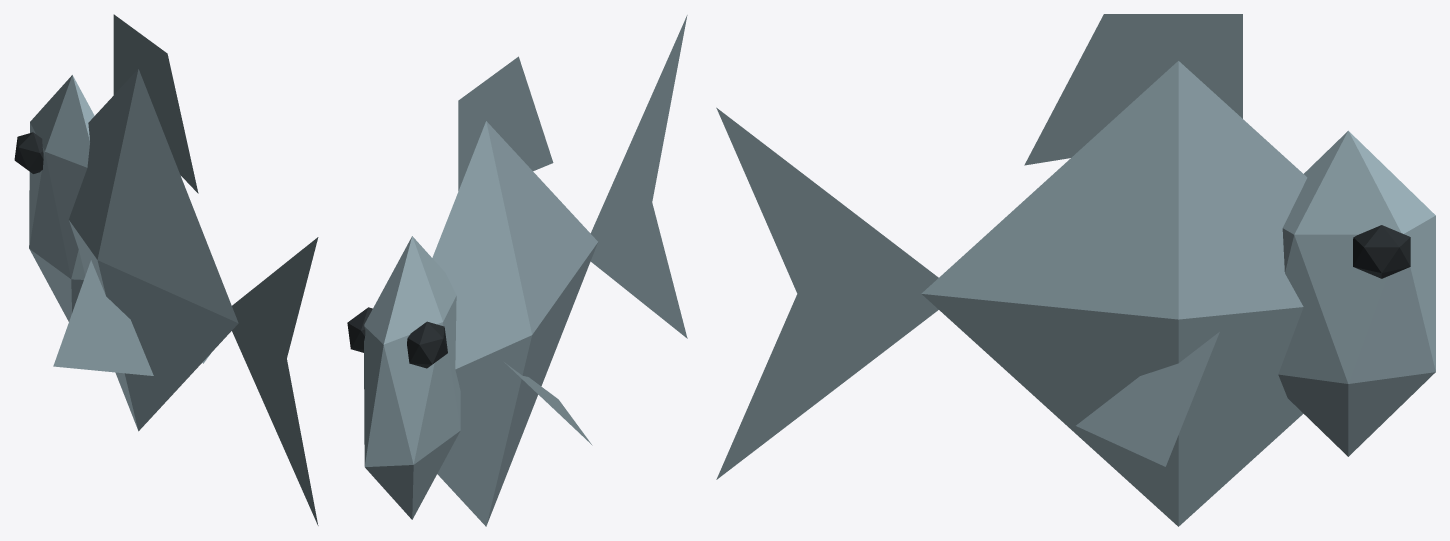
File: Triggerfish.fbx
3 views of the same model, side by side, from view 1: azimuth 30°, elevation 25°; view 2: azimuth 150°, elevation 25°; view 3: azimuth 270°, elevation 25° (orthographic). The views are drawn at different scales.
Visible parts, largest first — view 1: Body, Head, TailFin, Pectoral1, DorsalFin, Eye1; view 2: Body, Head, TailFin, DorsalFin, Eye1, Pectoral1, Eye-1; view 3: Body, Head, TailFin, DorsalFin, Pectoral-1, Eye-1.
Boxes of the visible parts, box(x1,y1,x2,y2) form: Body: box(69, 69, 238, 431); Head: box(29, 75, 94, 321); TailFin: box(232, 237, 318, 525); Pectoral1: box(53, 260, 153, 375); DorsalFin: box(113, 14, 198, 193); Eye1: box(14, 132, 43, 173); Body: box(432, 121, 597, 526); Head: box(364, 236, 460, 519); TailFin: box(590, 15, 687, 338); DorsalFin: box(458, 56, 553, 190); Eye1: box(407, 321, 447, 368); Pectoral1: box(504, 362, 592, 445); Eye-1: box(347, 307, 372, 352); Body: box(921, 61, 1307, 526); Head: box(1278, 130, 1435, 456); TailFin: box(716, 107, 938, 479); DorsalFin: box(1024, 14, 1242, 165); Pectoral-1: box(1076, 332, 1219, 466); Eye-1: box(1353, 225, 1410, 278).
Bounding box in the file's own units: 0.198 × 0.418 × 0.5315.
